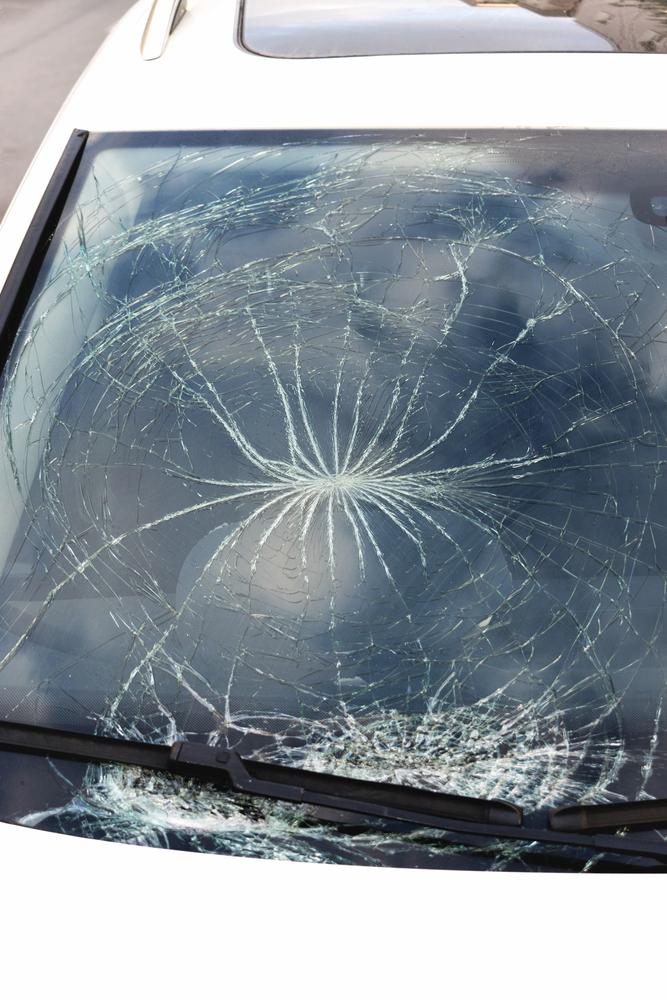glass shatter: (0, 130, 667, 873)
